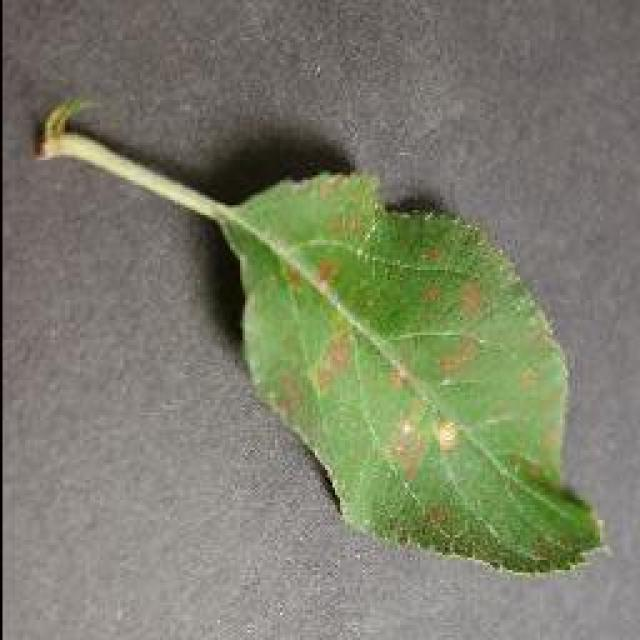apple rust disease: (32, 95, 608, 577)
